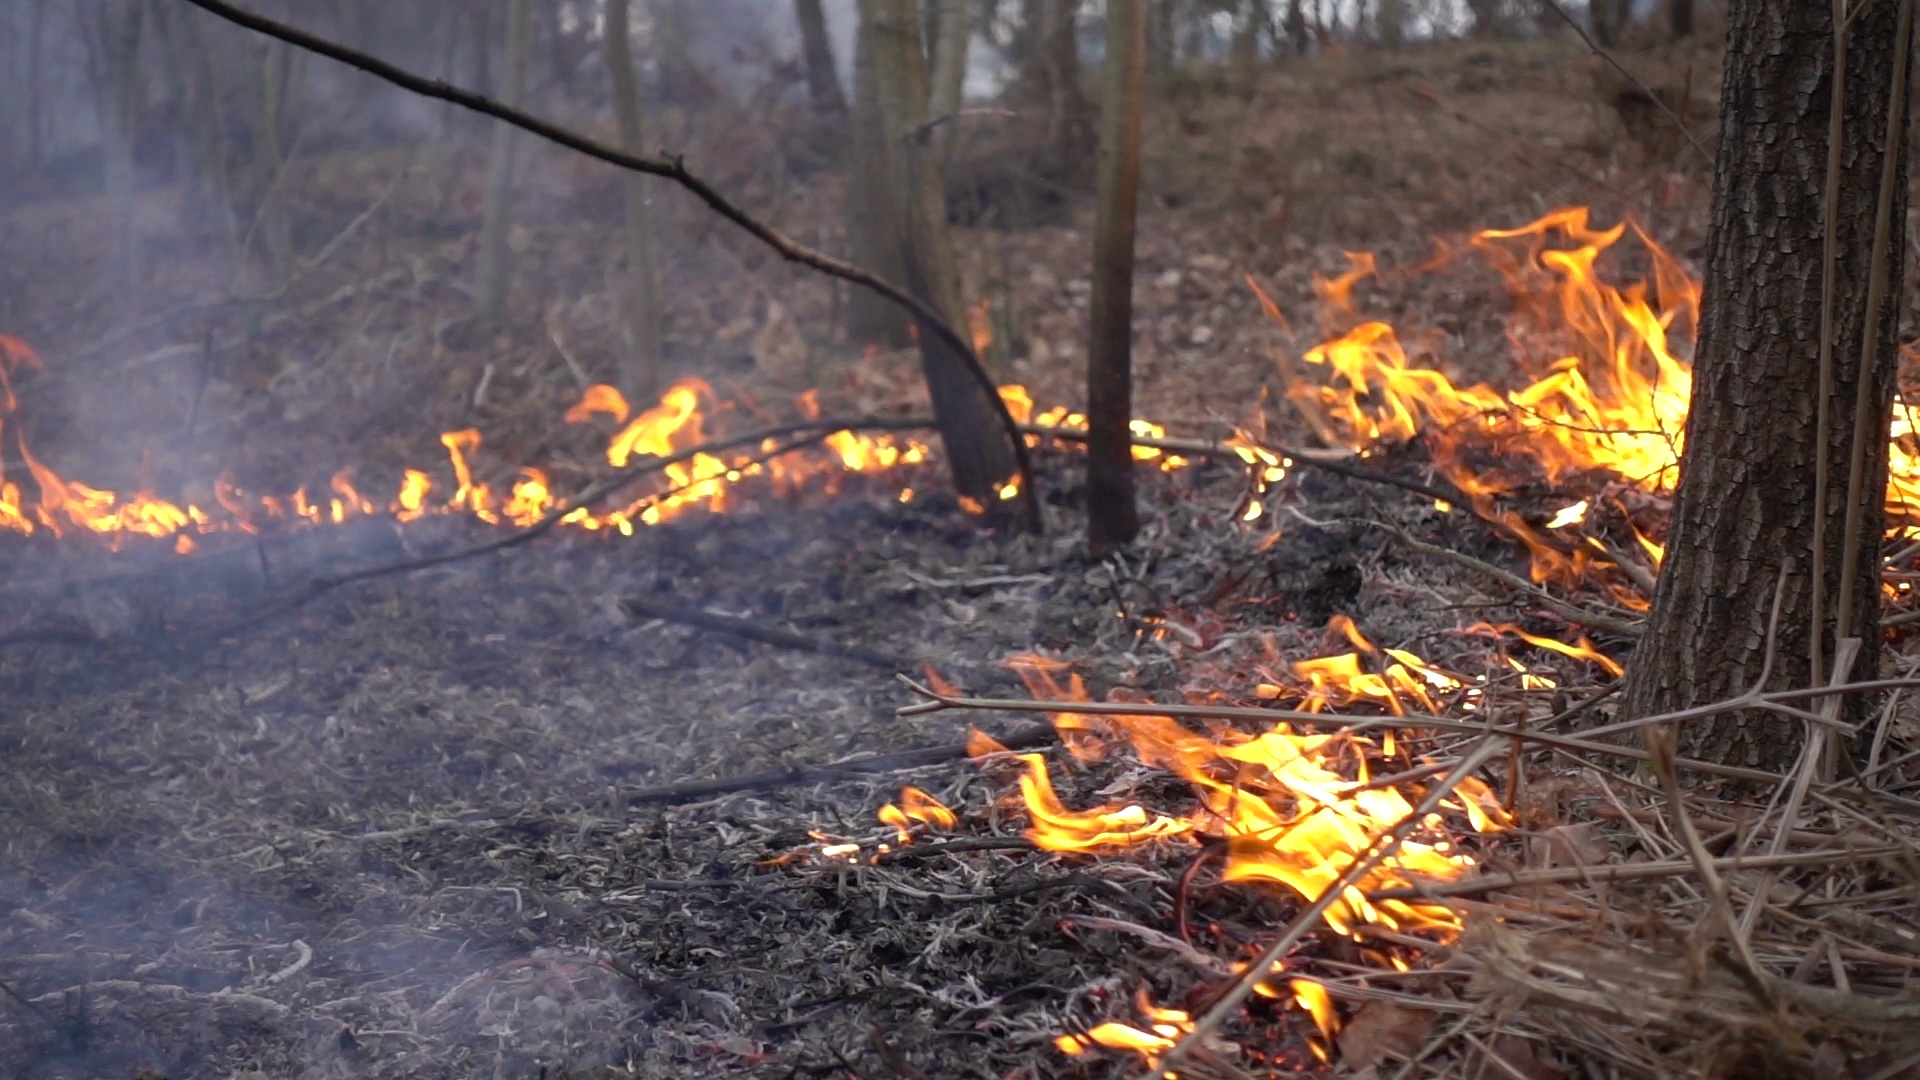fire: (968, 617, 1502, 945), (1317, 214, 1695, 495), (600, 388, 732, 520), (385, 444, 553, 531), (1, 487, 196, 542), (827, 427, 924, 469), (1886, 414, 1920, 521)
